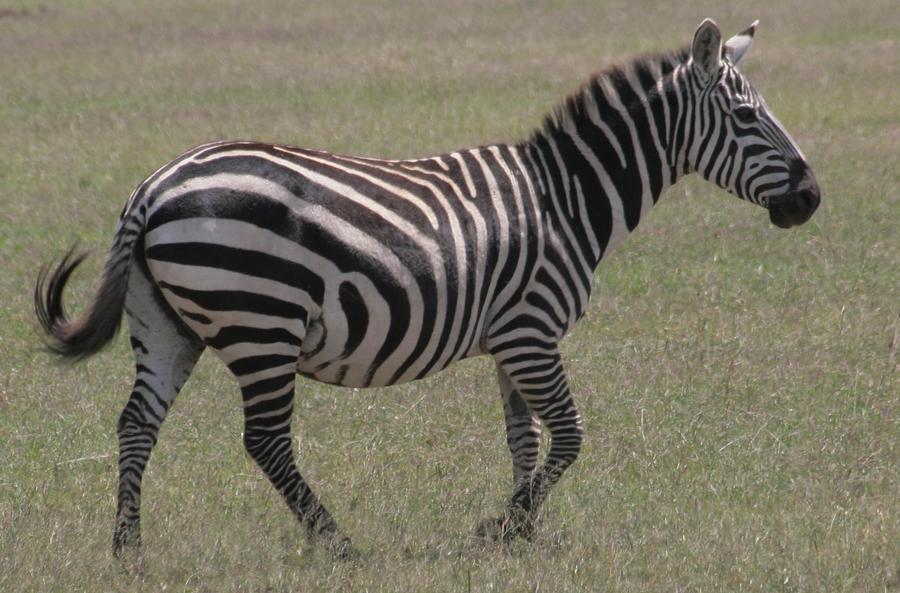zebra_plains: (183, 124, 597, 402)
